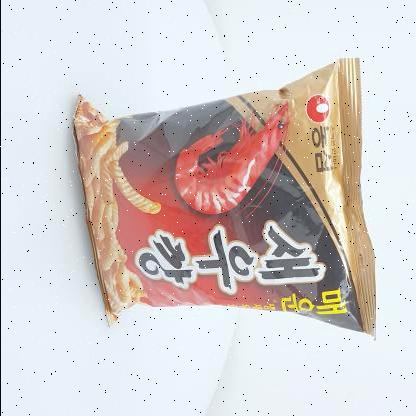Others: (61, 52, 385, 348)
